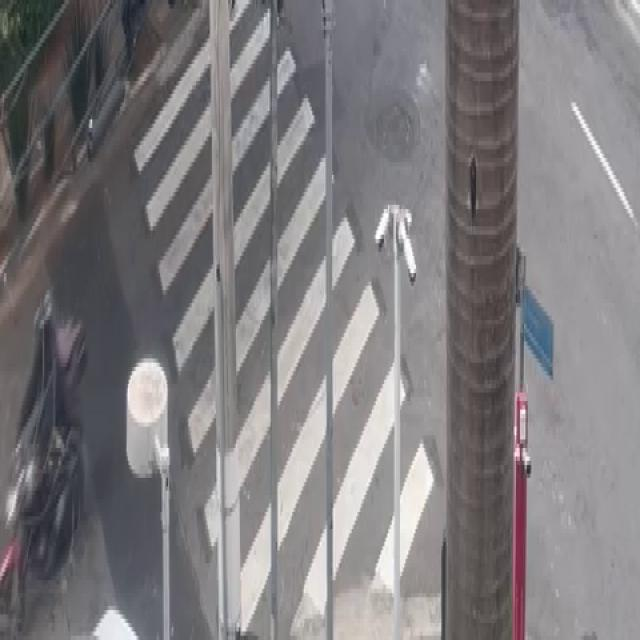motorbike: (4, 285, 84, 639)
